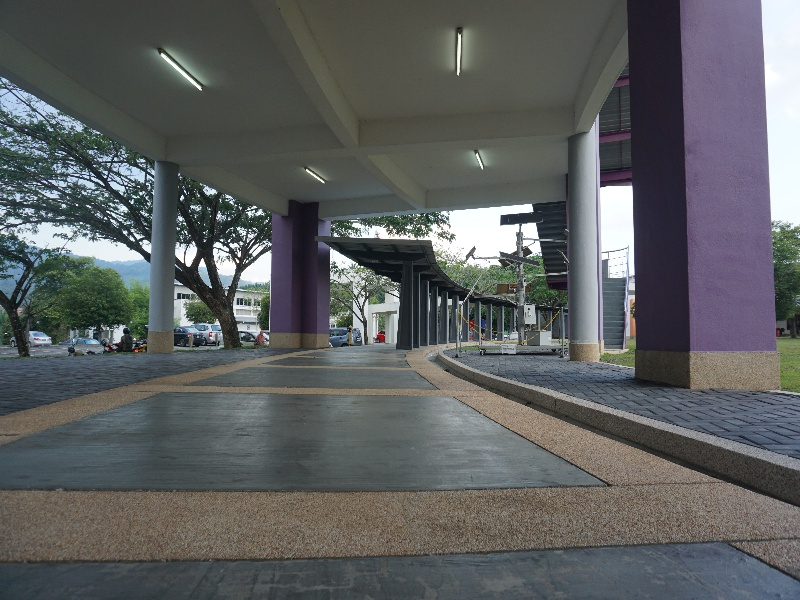Block D Pillar 4: (8, 6, 800, 489)
pillar: (265, 194, 329, 355), (568, 115, 608, 364), (143, 153, 183, 356)
